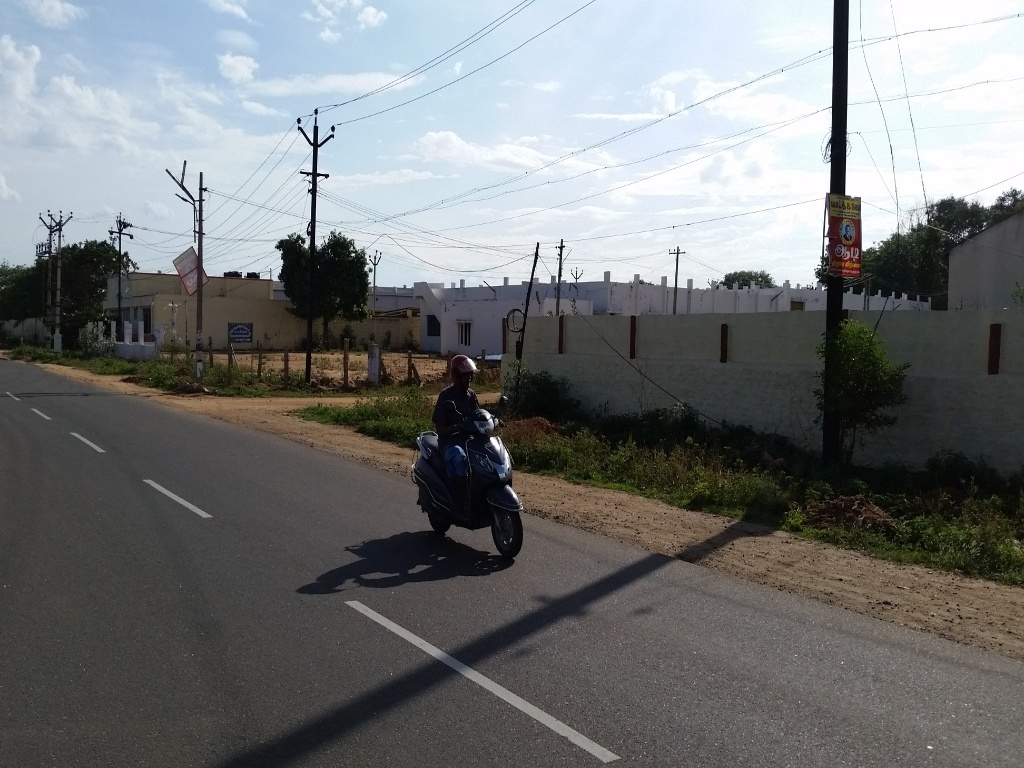biker: (400, 318, 551, 574)
helmet: (445, 346, 488, 396)
